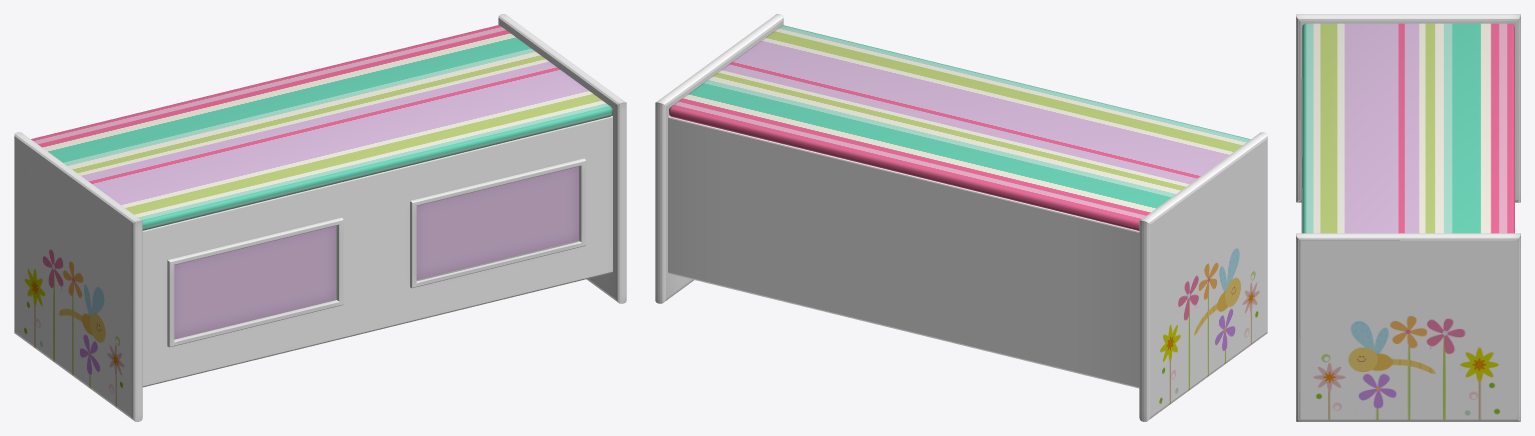
The model's file is Bedroom_Toybox.FBX.
The picture shows the model from 3 angles, left to right: view 1: azimuth 30°, elevation 25°; view 2: azimuth 150°, elevation 25°; view 3: azimuth 270°, elevation 25°; orthographic projection. The views are drawn at different scales.
Visible parts, largest first — view 1: Bedroom_Toybox; view 2: Bedroom_Toybox; view 3: Bedroom_Toybox.
Part boxes in pixels (x1,y1,x2,y2): Bedroom_Toybox: [14, 14, 626, 421]; Bedroom_Toybox: [655, 14, 1267, 421]; Bedroom_Toybox: [1296, 14, 1520, 421].
Size of the model in its own units: 102 by 39.66 by 43.36.
1 material, 1 textured.
